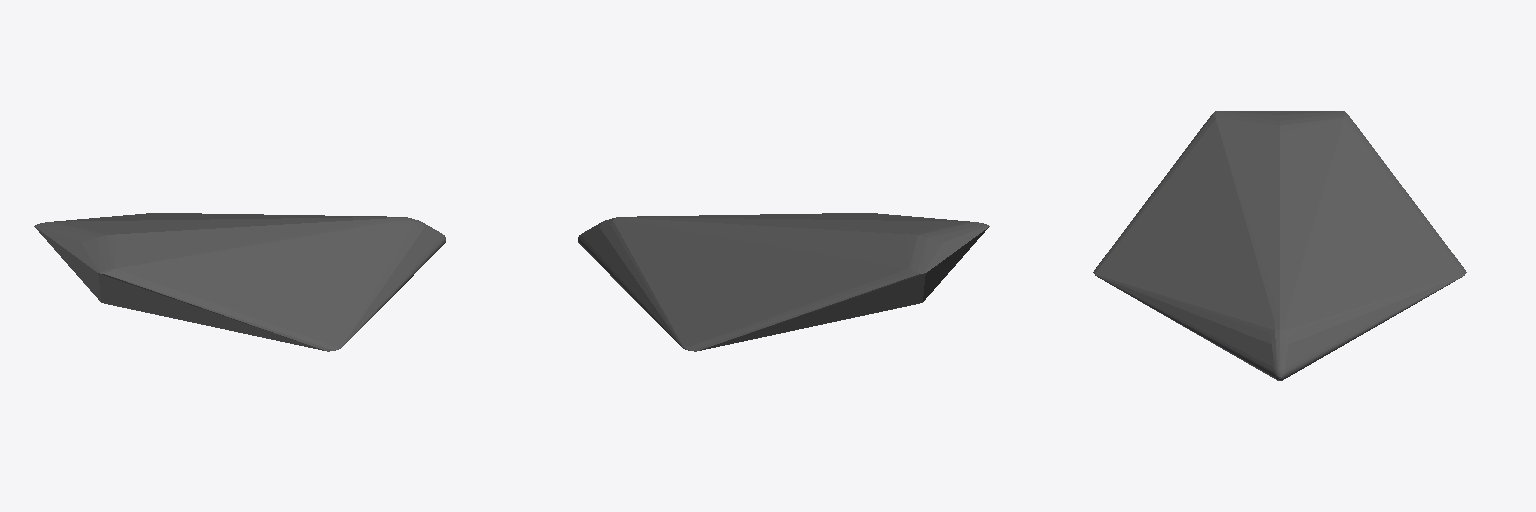
File: cvxhull.obj
3 renders of one model, left to right at view 1: azimuth 30°, elevation 25°; view 2: azimuth 150°, elevation 25°; view 3: azimuth 270°, elevation 25°, orthographic.
Visible parts, largest first — view 1: airplane_mesh53.002_mesh53-geometry; view 2: airplane_mesh53.002_mesh53-geometry; view 3: airplane_mesh53.002_mesh53-geometry.
Part boxes in pixels (left/top/right/bottom): airplane_mesh53.002_mesh53-geometry: left=34, top=213, right=445, bottom=351; airplane_mesh53.002_mesh53-geometry: left=578, top=213, right=989, bottom=351; airplane_mesh53.002_mesh53-geometry: left=1093, top=111, right=1466, bottom=380.
Bounding box in the file's own units: 1.69 × 0.4874 × 1.44.